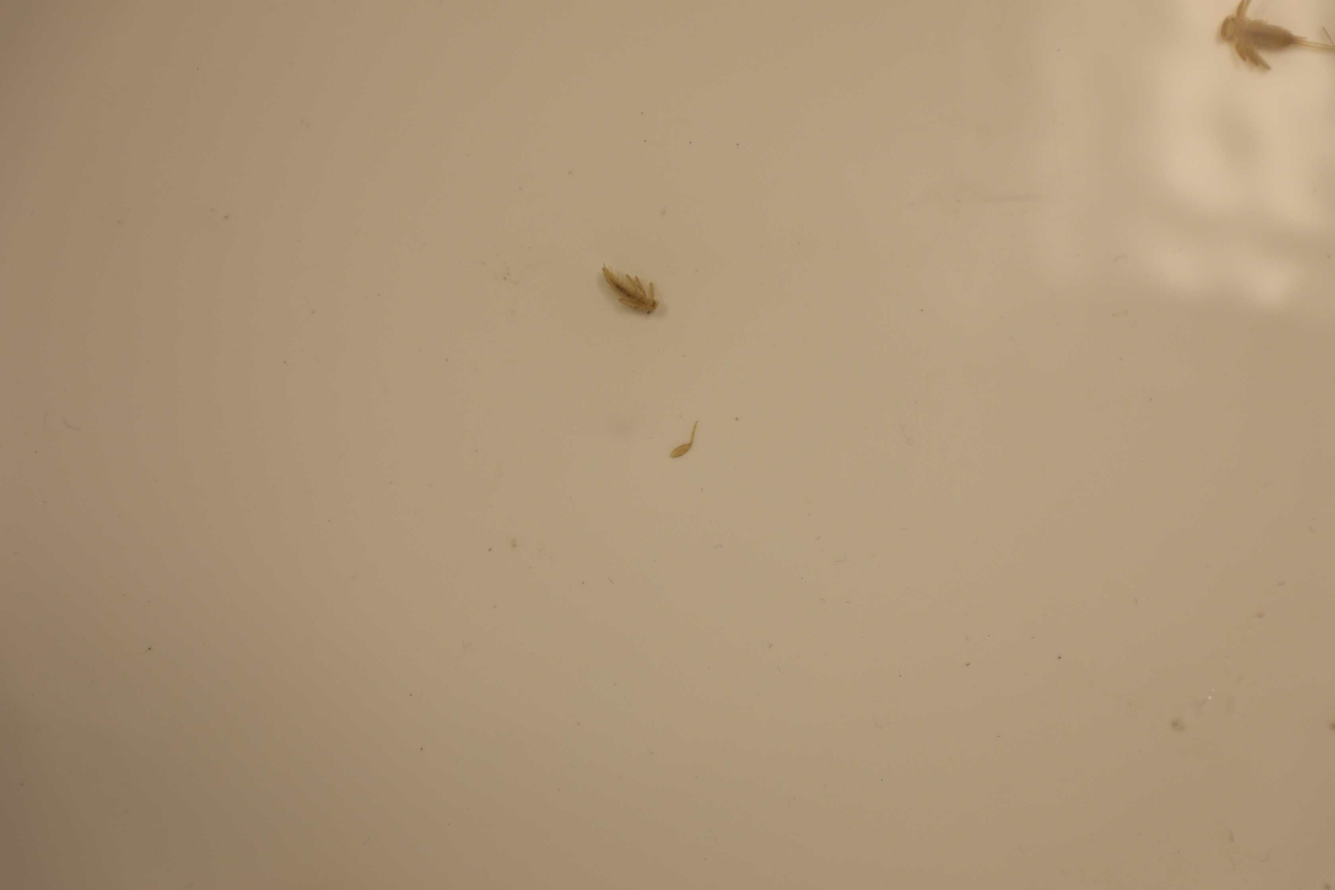Mayfly: (1210, 0, 1333, 77), (596, 267, 661, 323), (669, 421, 701, 463)
